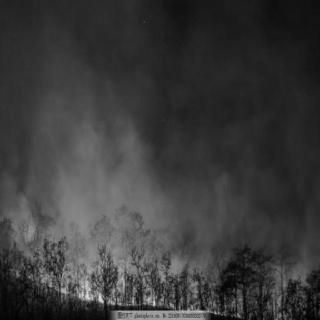Fire: (76, 278, 106, 305), (144, 293, 163, 309)
Smoke: (47, 99, 162, 233)
